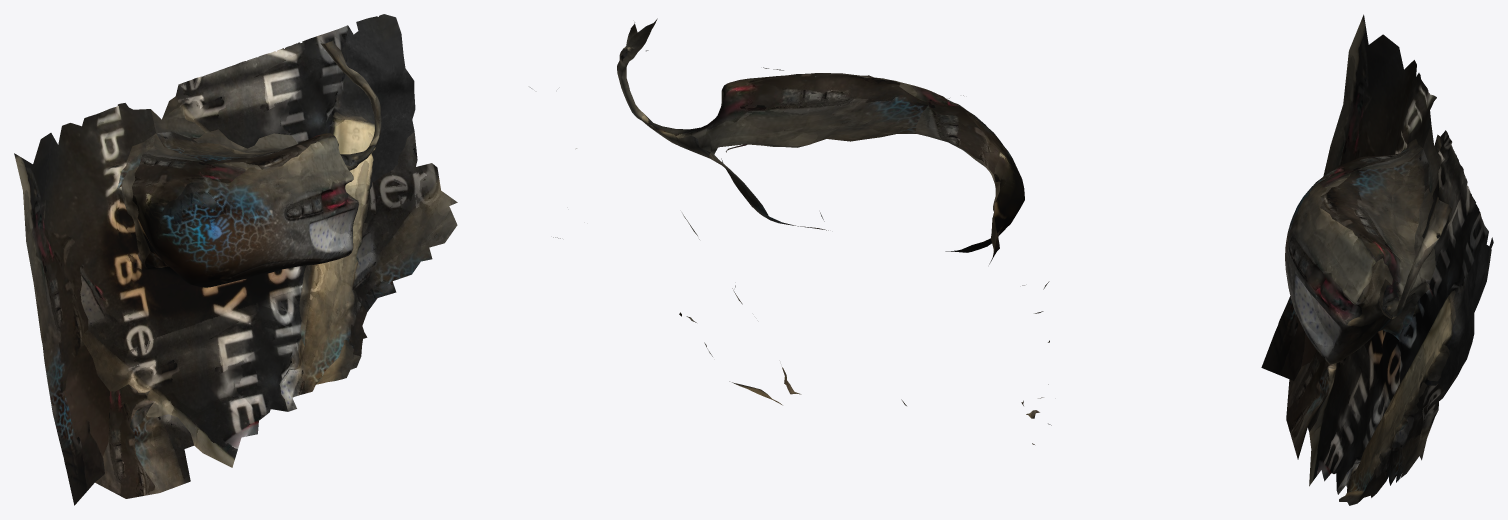
Rendered from model12_prev.glb.
The picture shows the model from 3 angles, left to right: view 1: azimuth 30°, elevation 25°; view 2: azimuth 150°, elevation 25°; view 3: azimuth 270°, elevation 25°; orthographic projection. The views are drawn at different scales.
Bounding box in the file's own units: 4.8 × 3.35 × 1.9.
Materials: 1 (1 with a texture image).
